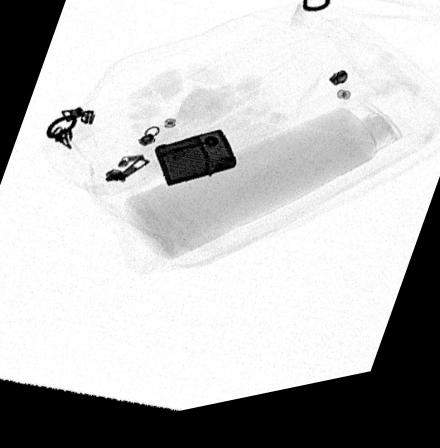Lighter: (153, 138, 237, 193)
